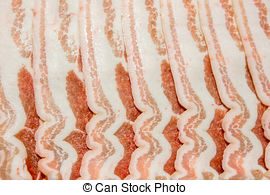bacon: (8, 5, 240, 162)
